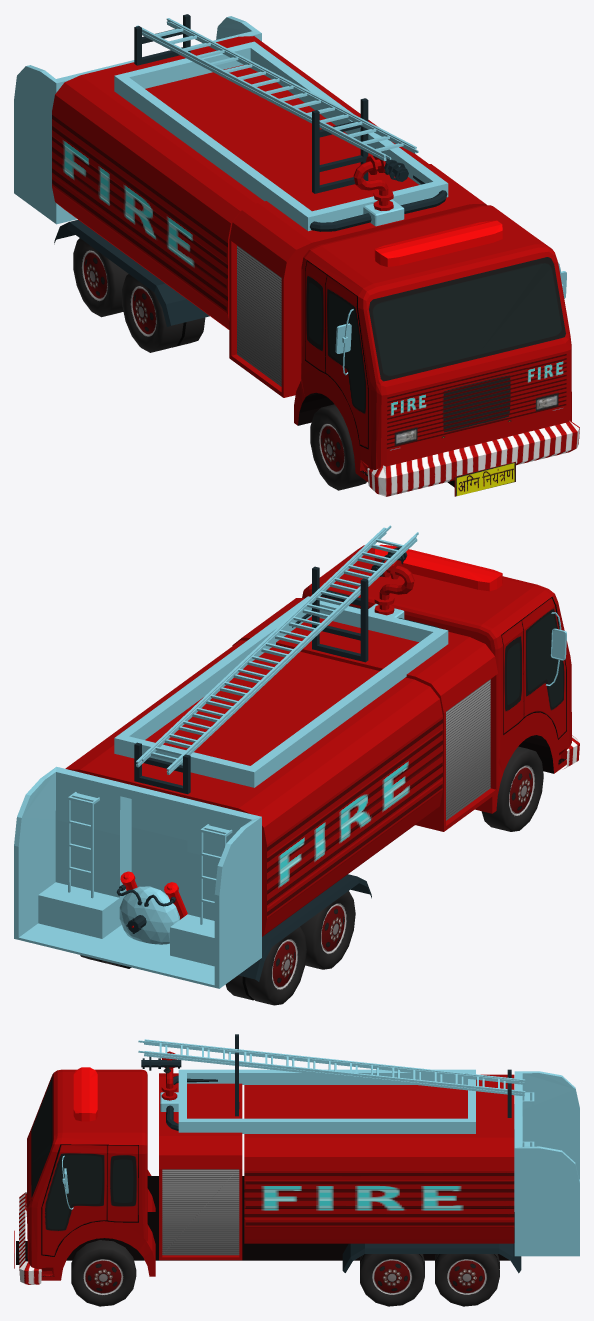
The model's file is Fire_Truck_001.FBX.
The picture shows the model from 3 angles, top to bottom: view 1: azimuth 30°, elevation 25°; view 2: azimuth 150°, elevation 25°; view 3: azimuth 270°, elevation 25°; orthographic projection. The views are drawn at different scales.
Parts seen in each view (by area): view 1: Fire_Truck_001, Fire_Truck_001_W_RR1, Fire_Truck_001_W_FR, Fire_Truck_001_W_RR2, Fire_Truck_001_Part; view 2: Fire_Truck_001, Fire_Truck_001_W_FR, Fire_Truck_001_W_RR2, Fire_Truck_001_W_RR1, Fire_Truck_001_Part; view 3: Fire_Truck_001, Fire_Truck_001_W_FL, Fire_Truck_001_W_RL2, Fire_Truck_001_W_RL1, Fire_Truck_001_Part.
Part boxes in pixels (bbox=[...]): Fire_Truck_001: bbox=[14, 14, 579, 496]; Fire_Truck_001_W_RR1: bbox=[122, 274, 205, 352]; Fire_Truck_001_W_FR: bbox=[310, 404, 366, 490]; Fire_Truck_001_W_RR2: bbox=[73, 238, 128, 317]; Fire_Truck_001_Part: bbox=[353, 152, 408, 210]; Fire_Truck_001: bbox=[14, 525, 579, 988]; Fire_Truck_001_W_FR: bbox=[481, 746, 543, 831]; Fire_Truck_001_W_RR2: bbox=[225, 927, 306, 1005]; Fire_Truck_001_W_RR1: bbox=[300, 891, 355, 969]; Fire_Truck_001_Part: bbox=[371, 547, 414, 615]; Fire_Truck_001: bbox=[14, 1034, 579, 1284]; Fire_Truck_001_W_FL: bbox=[71, 1240, 136, 1306]; Fire_Truck_001_W_RL2: bbox=[435, 1254, 499, 1306]; Fire_Truck_001_W_RL1: bbox=[360, 1254, 424, 1306]; Fire_Truck_001_Part: bbox=[141, 1051, 181, 1100].
Bounding box in the file's own units: 112 × 138 × 313.
